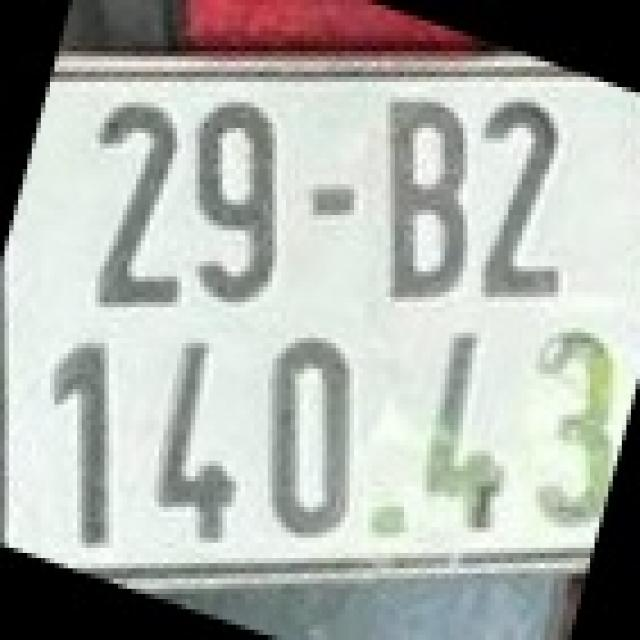0: (258, 328, 358, 538)
1: (45, 333, 127, 548)
2: (86, 92, 186, 307), (477, 92, 572, 302)
3: (522, 318, 622, 528)
4: (150, 333, 245, 548), (418, 322, 508, 532)
9: (191, 92, 286, 307)
B: (372, 92, 472, 307)
